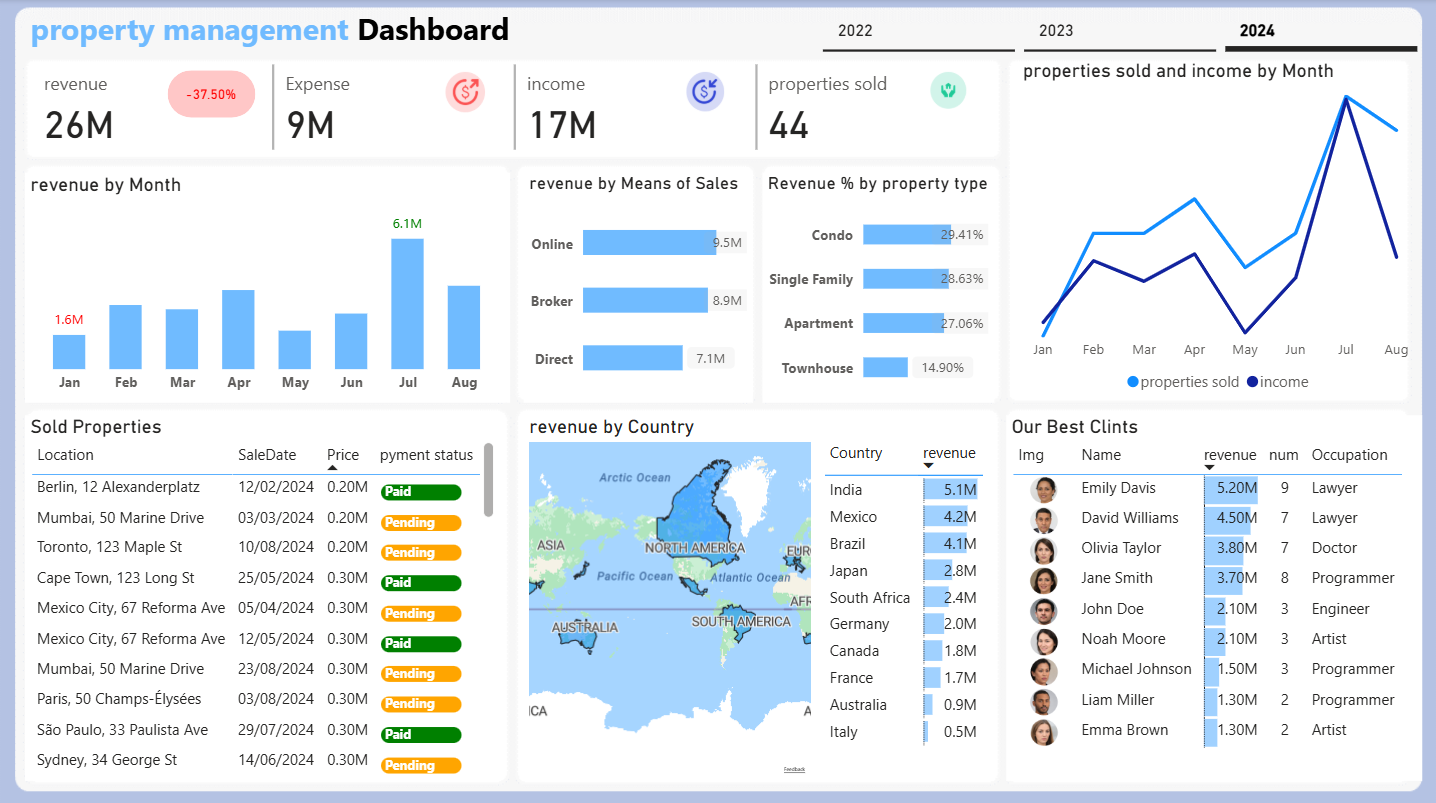

The page's visual inventory and layout, read from the dashboard file:
{"tool":"powerbi","page":{"name":"Page 1","canvas":[1280,720],"ordinal":0},"visuals":[{"type":"card","fields":{"Values":["ALL Measures.revenue growth %"]},"box":[149.6,65.1,77.2,42.2],"z":0},{"type":"shape","box":[149.6,63.9,78.4,42.2],"z":1000},{"type":"columnChart","fields":{"Y":["ALL Measures.revenue"],"Category":["Calendar.Month"]},"box":[21.7,154.4,431.9,205.1],"z":2000},{"type":"clusteredBarChart","fields":{"Y":["ALL Measures.revenue"],"Category":["Sales_Table.Means of Sales"]},"box":[466.9,154.4,203.9,205.1],"z":3000},{"type":"clusteredBarChart","title":"Revenue % by property type","fields":{"Category":["Property_Table.Type"],"Y":["ALL Measures.% GT"]},"box":[679.2,154.4,206.3,205.1],"z":4000},{"type":"tableEx","title":"Sold Properties ","fields":{"Values":["Property_Table.Location","Sales_Table.SaleDate","Sum(Property_Table.Price)","ALL Measures.pyment status"]},"box":[21.7,370.4,422.3,325.7],"z":5000},{"type":"azureMap","fields":{"Category":["Property_Table.Country"]},"box":[466.9,370.4,260.6,325.7],"z":6000},{"type":"advancedSlicerVisual","fields":{"Values":["Calendar.Year"]},"box":[727.5,1.2,539.3,51.9],"z":7000},{"type":"cardVisual","fields":{"Data":["ALL Measures.revenue","ALL Measures.Expense","ALL Measures.income","ALL Measures.properties sold"]},"box":[21.7,53.1,863.8,86.9],"z":8000},{"type":"image","box":[589.3,60.3,78.4,44.6],"z":9000},{"type":"image","box":[375.2,60.3,78.4,45.8],"z":10000},{"type":"image","box":[803.5,60.3,82,42.2],"z":11000},{"type":"tableEx","fields":{"Values":["Property_Table.Country","ALL Measures.revenue"]},"box":[727.5,386.1,158,299.2],"z":12000},{"type":"tableEx","title":"Our Best Clints ","fields":{"Values":["Client_Table.Img","Client_Table.Name","ALL Measures.revenue","ALL Measures.properties sold","Client_Table.Occupation"]},"box":[896.4,370.4,370.4,325.7],"z":13000},{"type":"lineChart","fields":{"Y":["ALL Measures.properties sold"],"Category":["Calendar.Month"],"Y2":["ALL Measures.income"]},"box":[906,53.1,360.7,306.4],"z":14000},{"type":"textbox","box":[21.7,3.6,511.5,49.5],"z":14001}]}

Visuals, with their boxes in screenshot pixels (x1, y1, x2, y2), scaled from the page's 1280x720 canvas onto the 1436x803 screenshot:
card - ALL Measures.revenue growth %: select_region(168, 73, 254, 120)
shape: select_region(168, 71, 256, 118)
columnChart - ALL Measures.revenue x Calendar.Month: select_region(24, 172, 509, 401)
clusteredBarChart - ALL Measures.revenue x Sales_Table.Means of Sales: select_region(524, 172, 753, 401)
"Revenue % by property type" clusteredBarChart: select_region(762, 172, 993, 401)
"Sold Properties " tableEx: select_region(24, 413, 498, 776)
azureMap - Property_Table.Country: select_region(524, 413, 816, 776)
advancedSlicerVisual - Calendar.Year: select_region(816, 1, 1421, 59)
cardVisual - ALL Measures.revenue x ALL Measures.Expense: select_region(24, 59, 993, 156)
image: select_region(661, 67, 749, 117)
image: select_region(421, 67, 509, 118)
image: select_region(901, 67, 993, 114)
tableEx - Property_Table.Country x ALL Measures.revenue: select_region(816, 431, 993, 764)
"Our Best Clints " tableEx: select_region(1006, 413, 1421, 776)
lineChart - ALL Measures.properties sold x Calendar.Month: select_region(1016, 59, 1421, 401)
textbox: select_region(24, 4, 598, 59)
